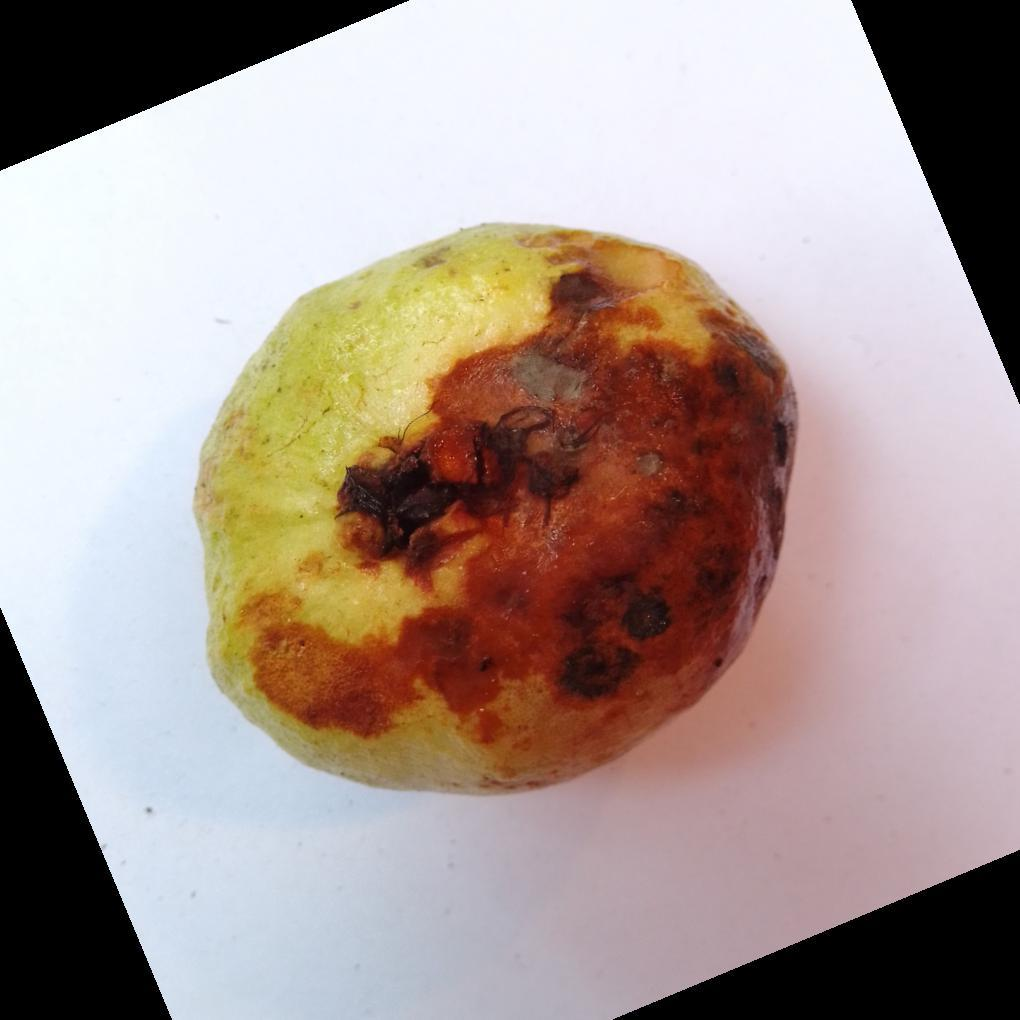FreshOrange: (190, 224, 799, 799)
